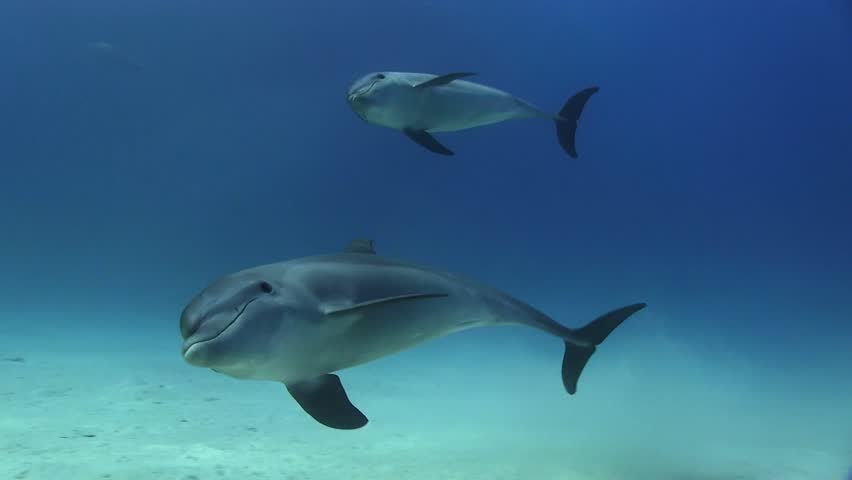dolphin: (172, 234, 668, 440), (341, 55, 609, 174)
